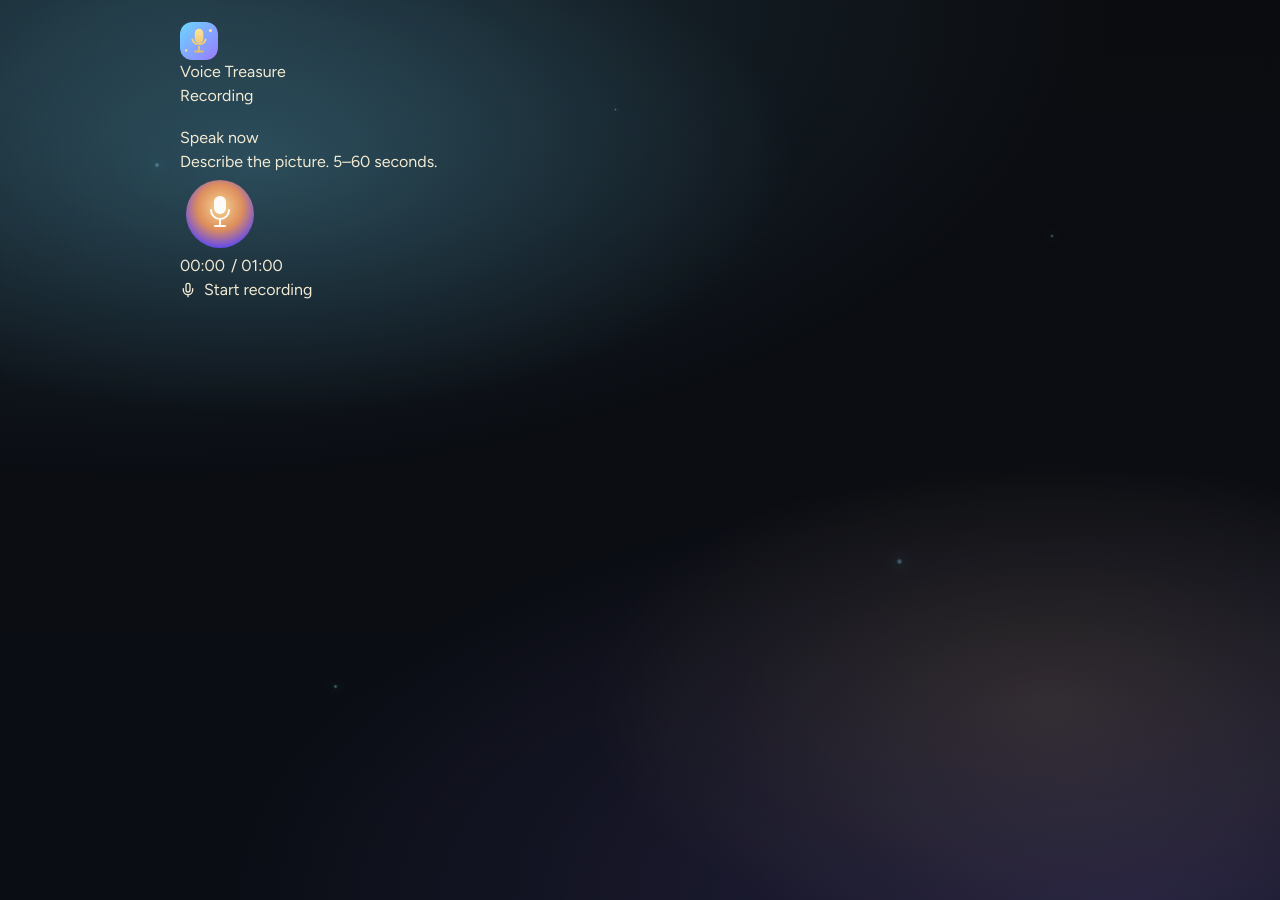
Test: VT Pass B.2.1 · Recorder previewing phase is real, no interrupted overstatement › recorder never enters an `interrupted` phase (claim corrected)
This screenshot has width=1280, height=900.
Later steps or results of the test are not shown.
Click the button with test id "vt-rec-start".
click(246, 290)  # box [180,278,312,302]
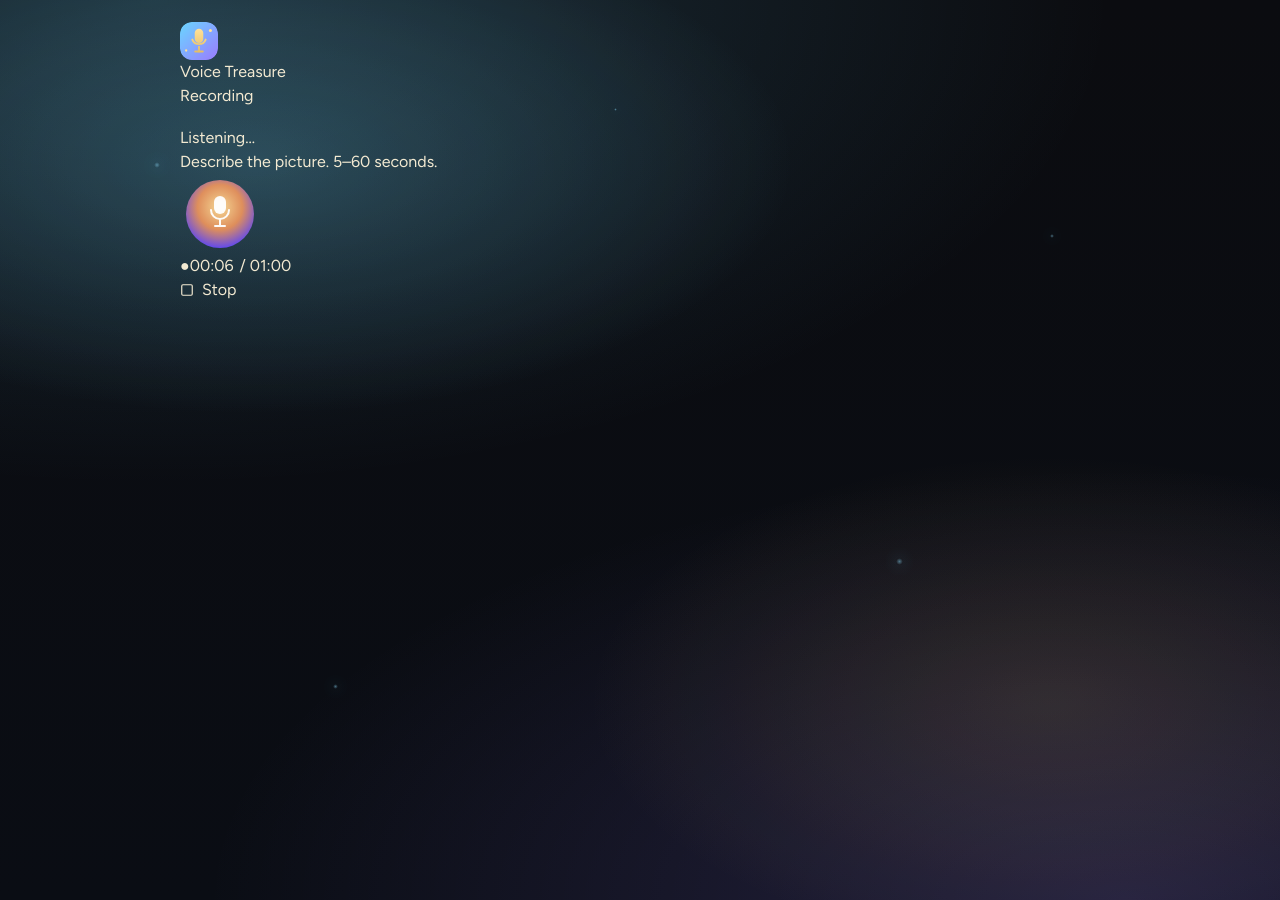
Result: the element with test id "vt-recorder" does not have attribute data-phase="interrupted" at [180,128,437,302]
